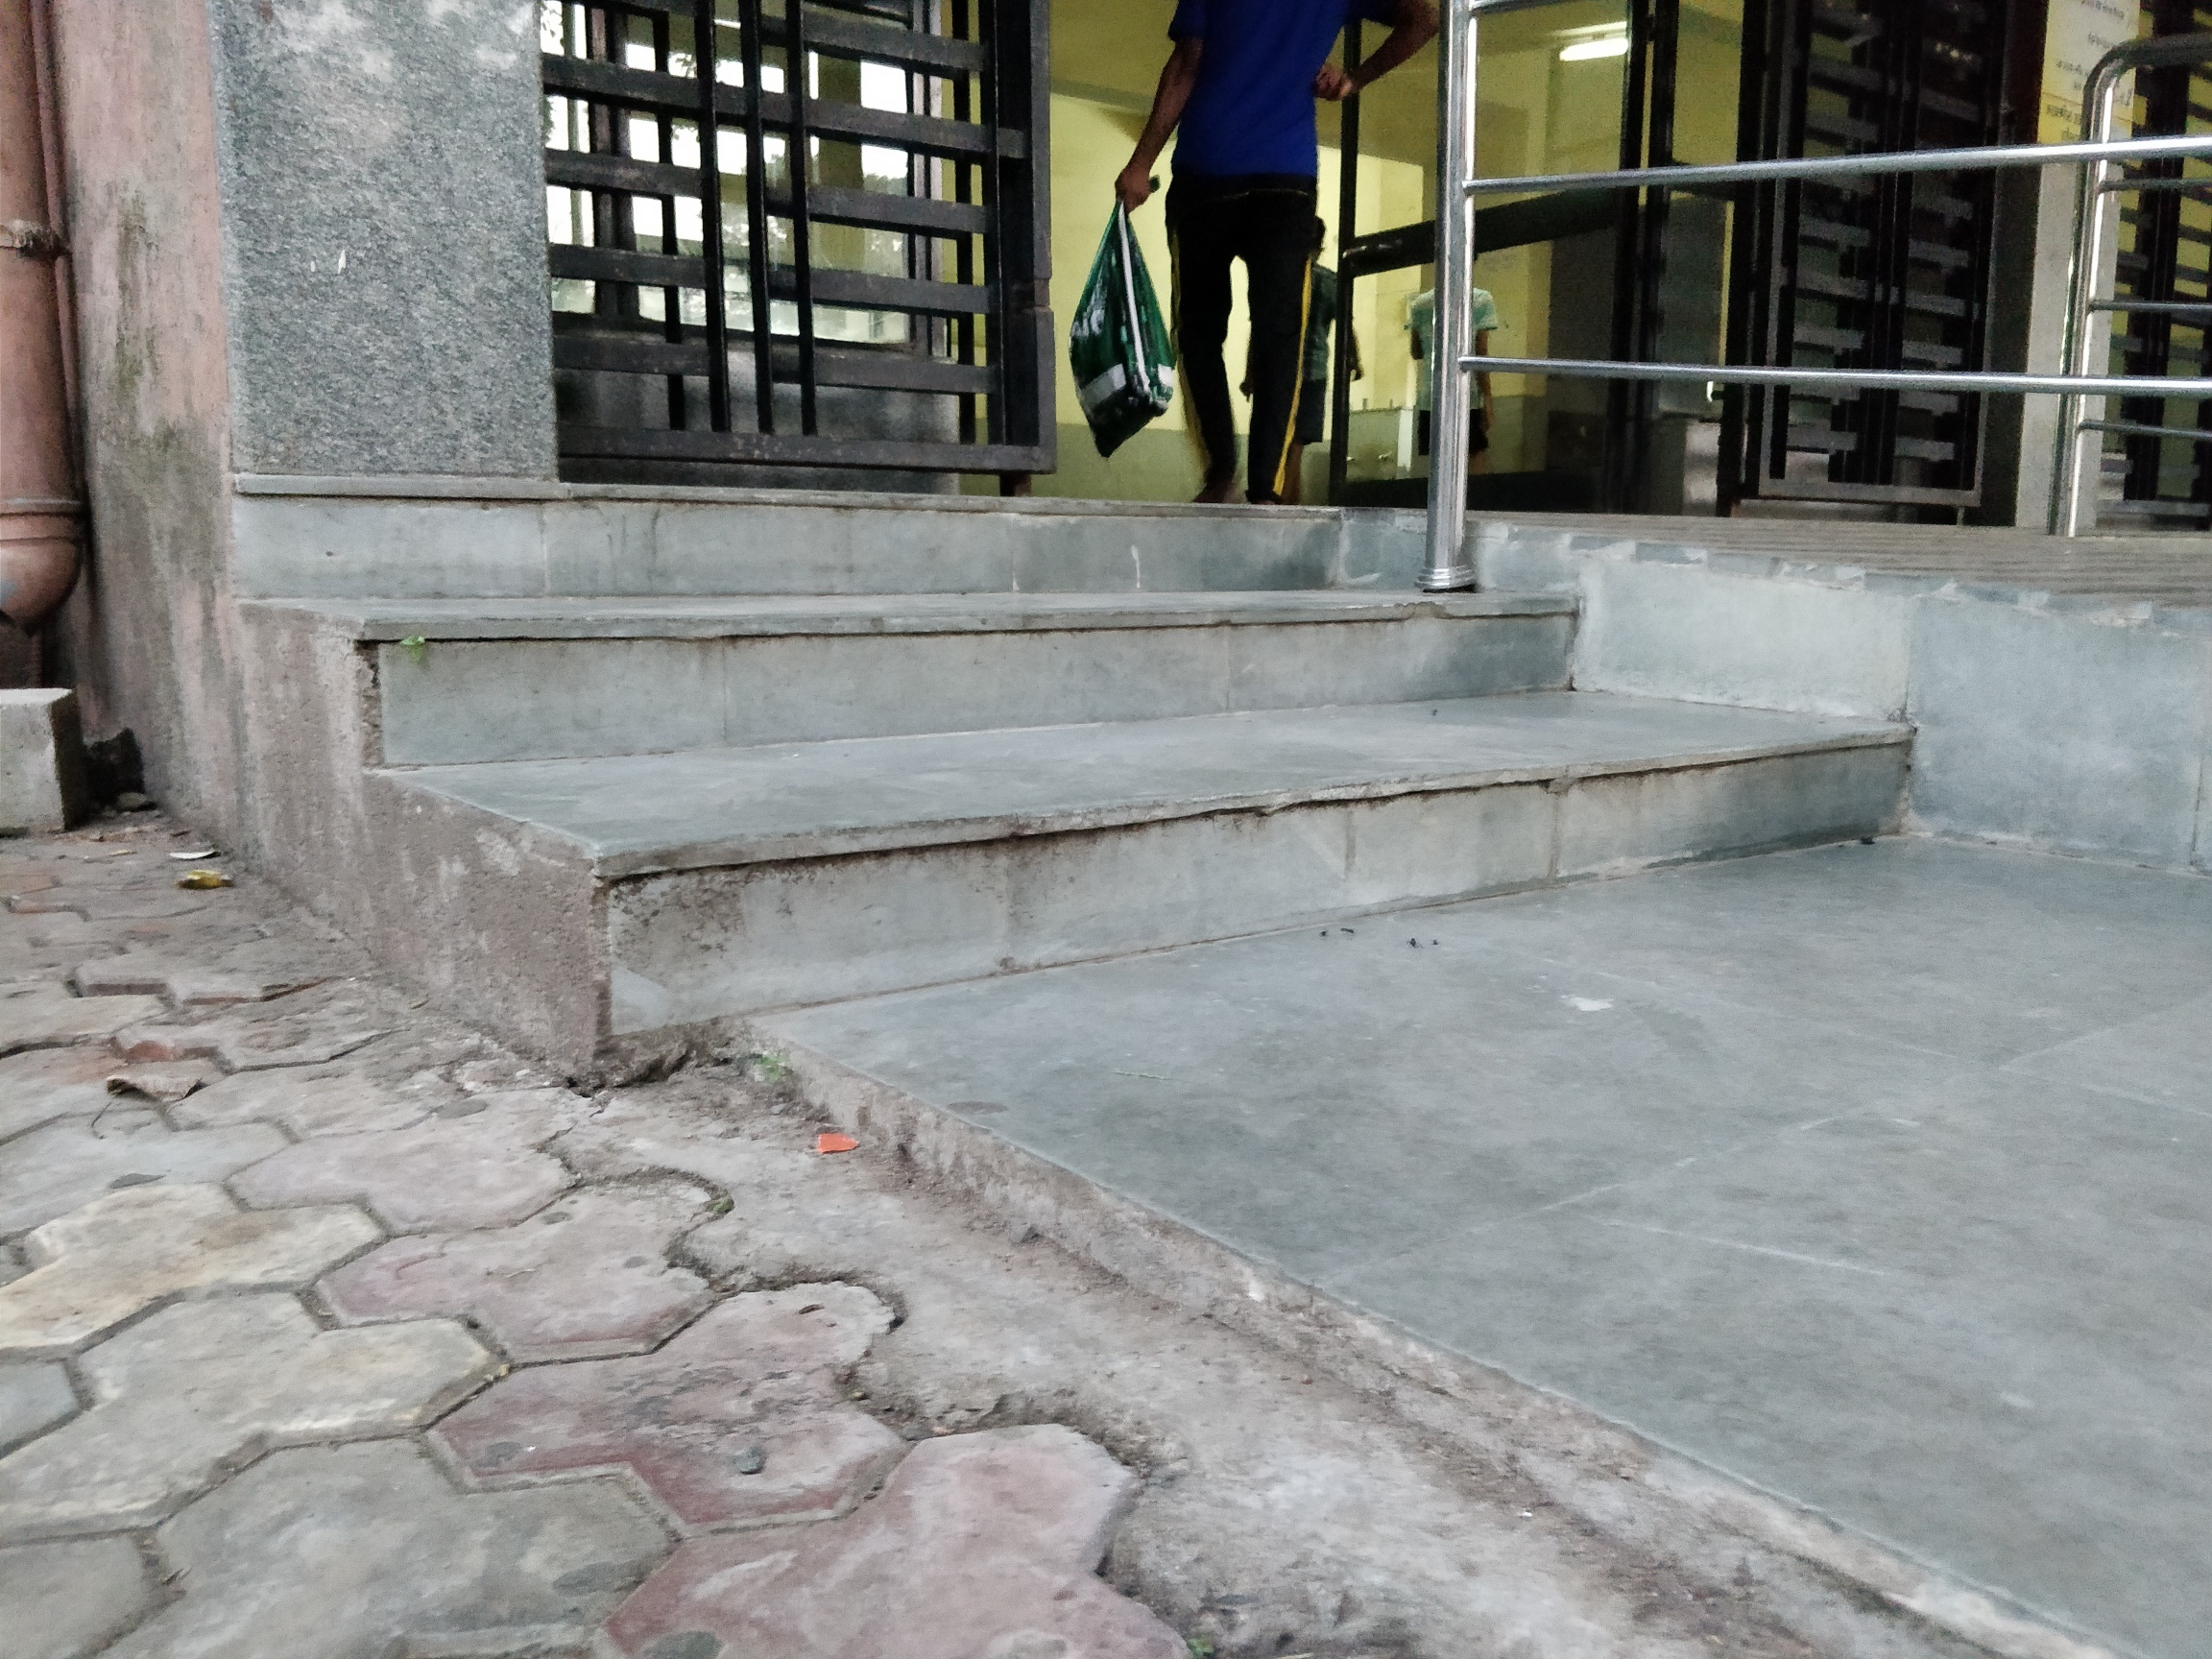stairs_up: (232, 472, 1980, 1042)
